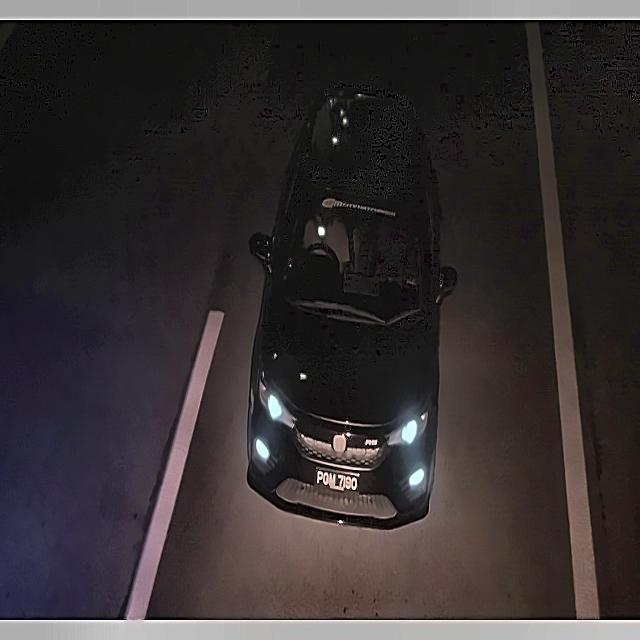car: (312, 467, 362, 495)
